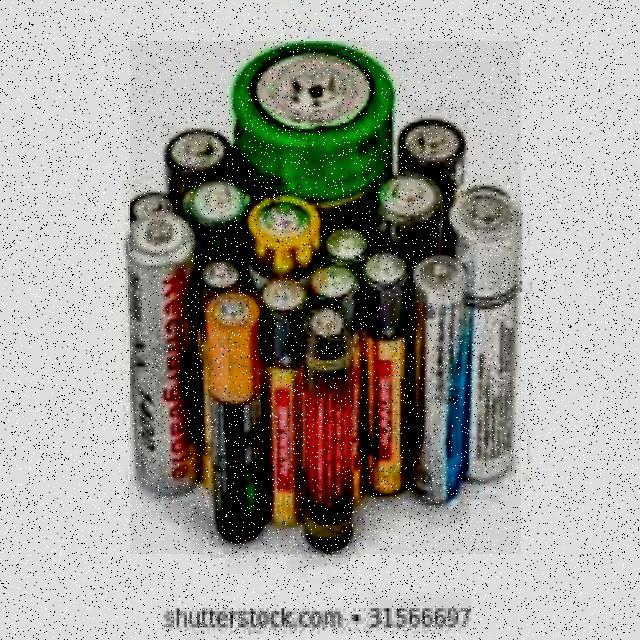B3: (94, 35, 546, 558)
